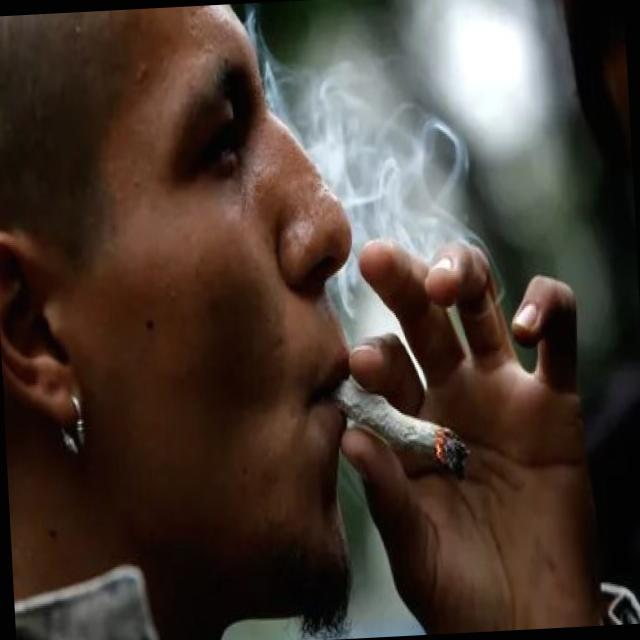cigarette: (327, 369, 472, 478)
